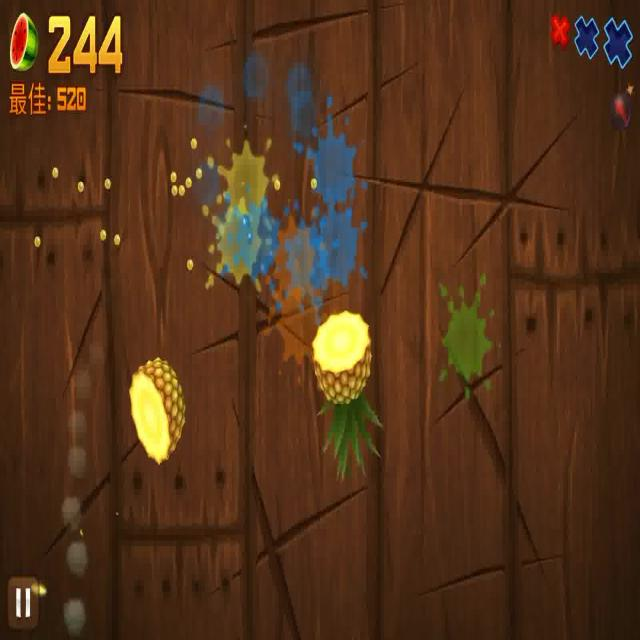fruit: (309, 311, 384, 478), (128, 358, 186, 464)
